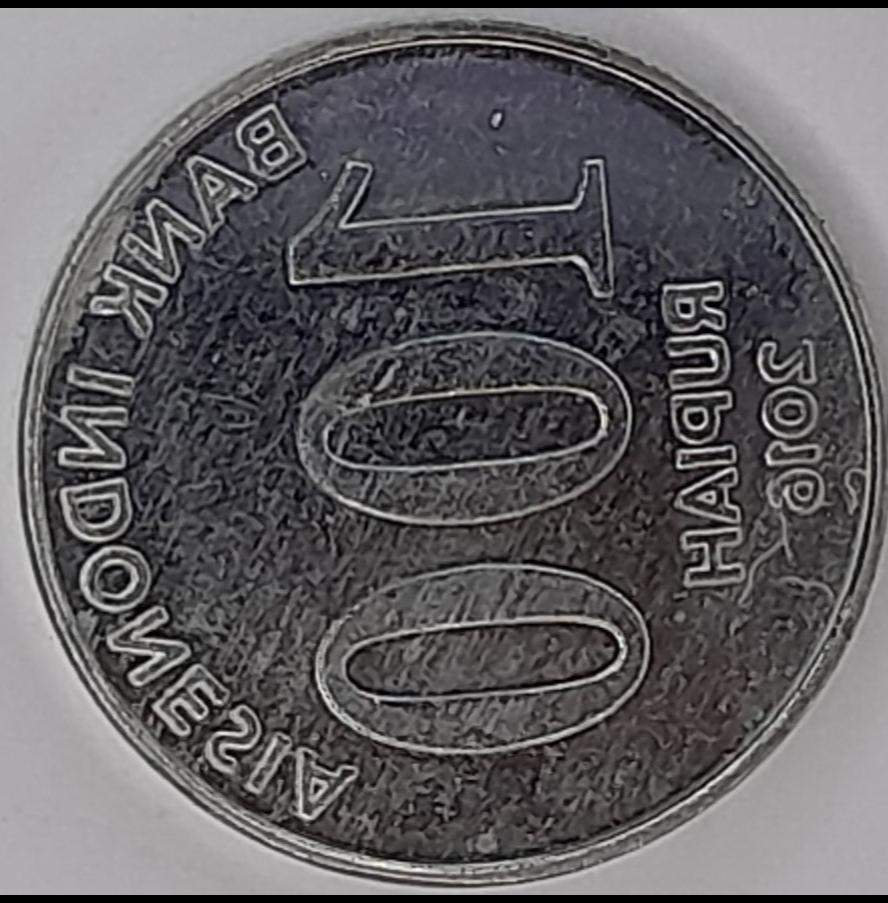coin_100_e2016: (12, 13, 887, 886)
